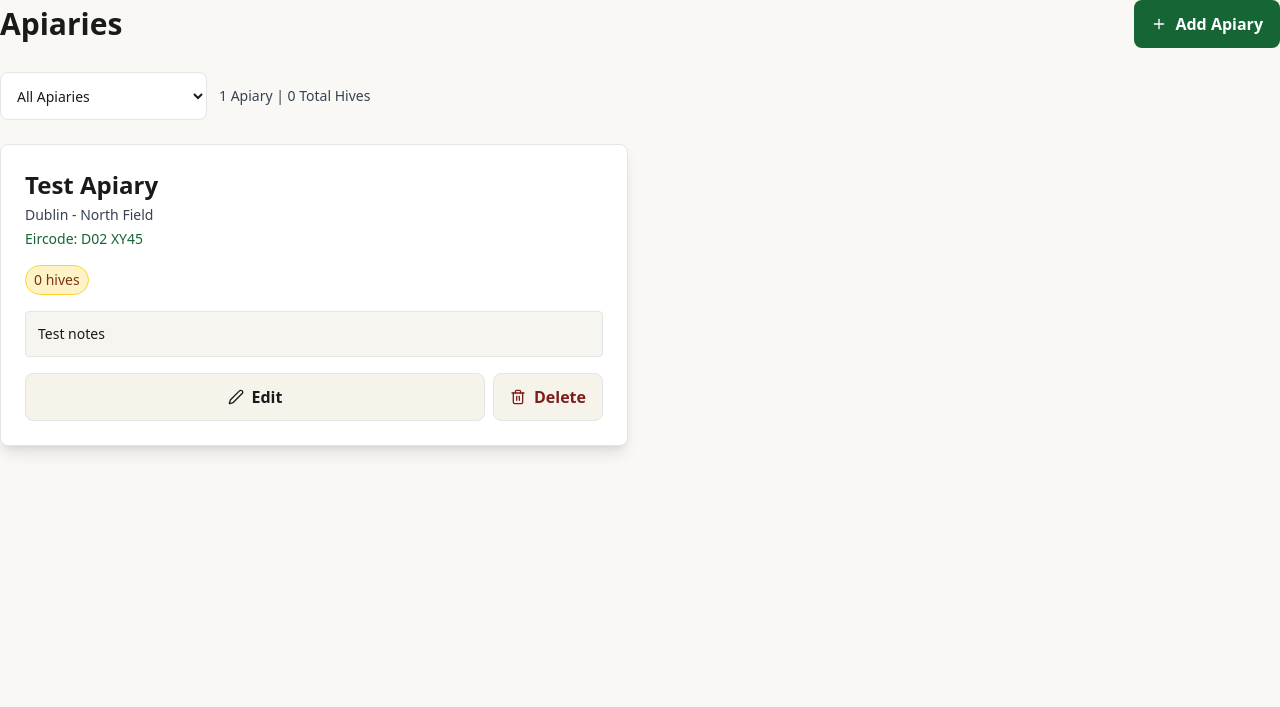
ApiariesPage › Edit Apiary Form › should leave UK/NI unchecked when editing an Irish apiary
Check: the heading "Test Apiary" is shown, box [25,168,158,201]
Click the button "Edit". click: {"x": 255, "y": 397}
box: [25,373,485,421]
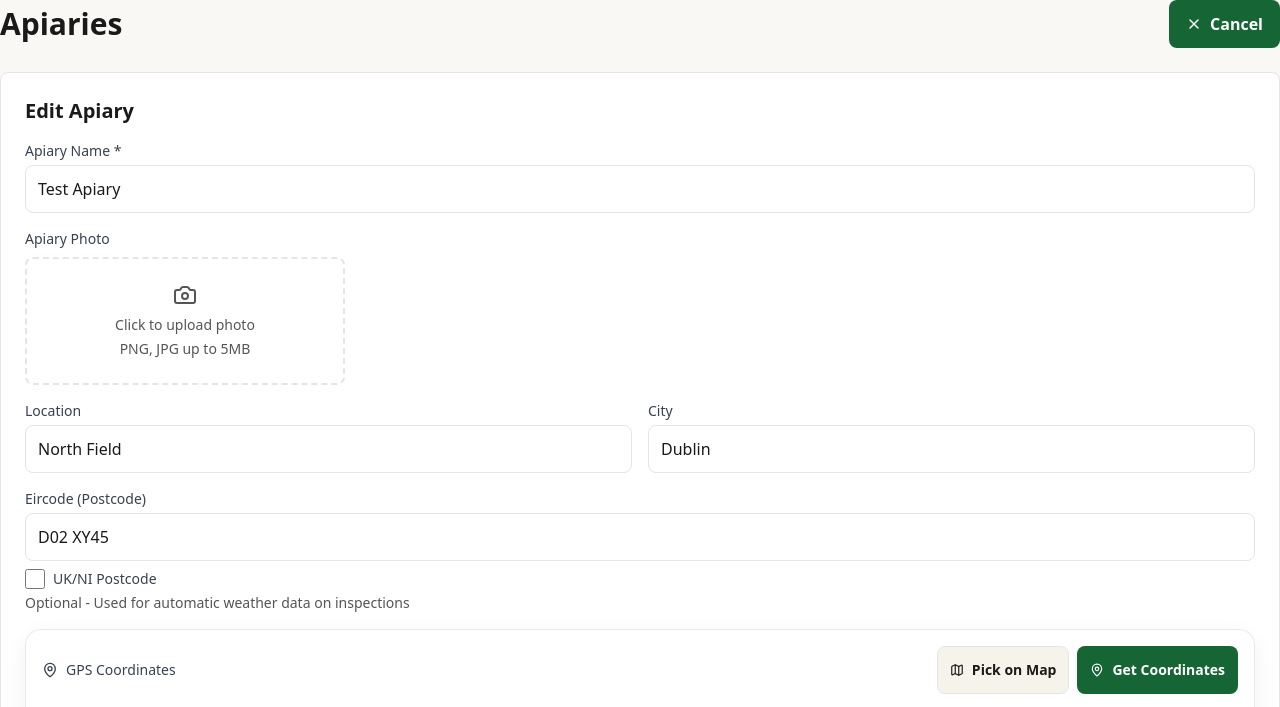
Check: the checkbox labelled "UK/NI Postcode" is not checked, box [25,569,45,589]
